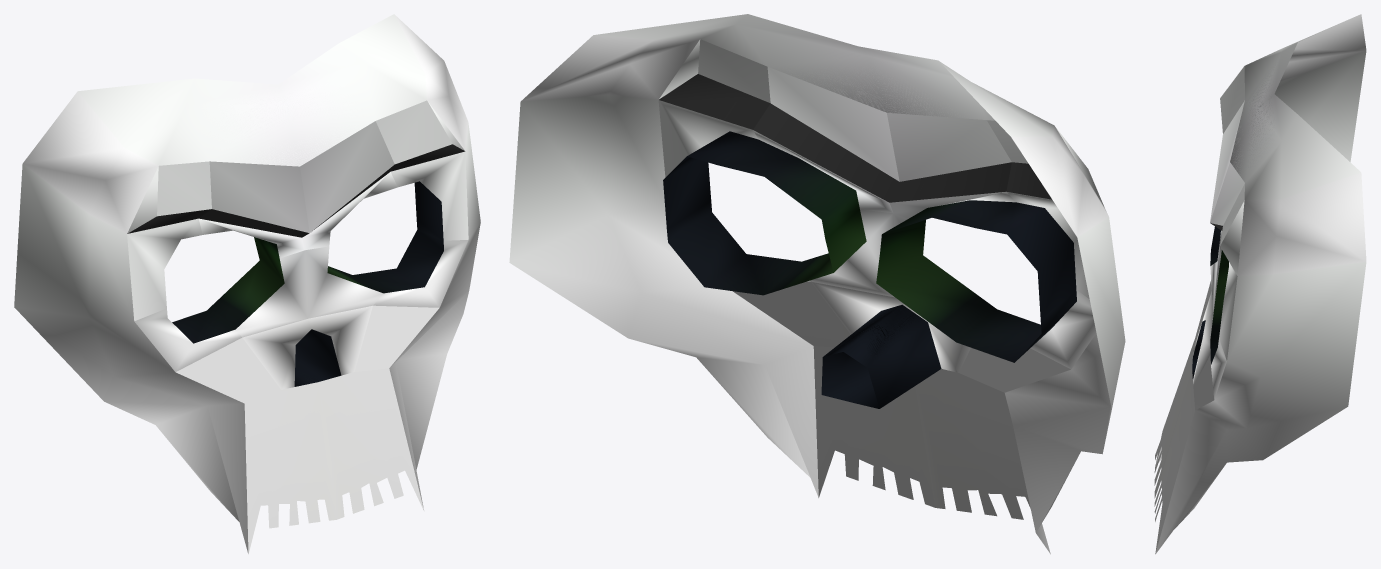
File: skullmask.fbx
3 renders of one model, left to right at view 1: azimuth 30°, elevation 25°; view 2: azimuth 150°, elevation 25°; view 3: azimuth 270°, elevation 25°, orthographic. The views are drawn at different scales.
Visible parts, largest first — view 1: skullmask; view 2: skullmask; view 3: skullmask.
Part boxes in pixels (x1,y1,x2,y2): skullmask: (14, 14, 480, 554); skullmask: (509, 14, 1125, 554); skullmask: (1154, 14, 1366, 554).
Size of the model in its own units: 23.16 by 20.45 by 9.08.
